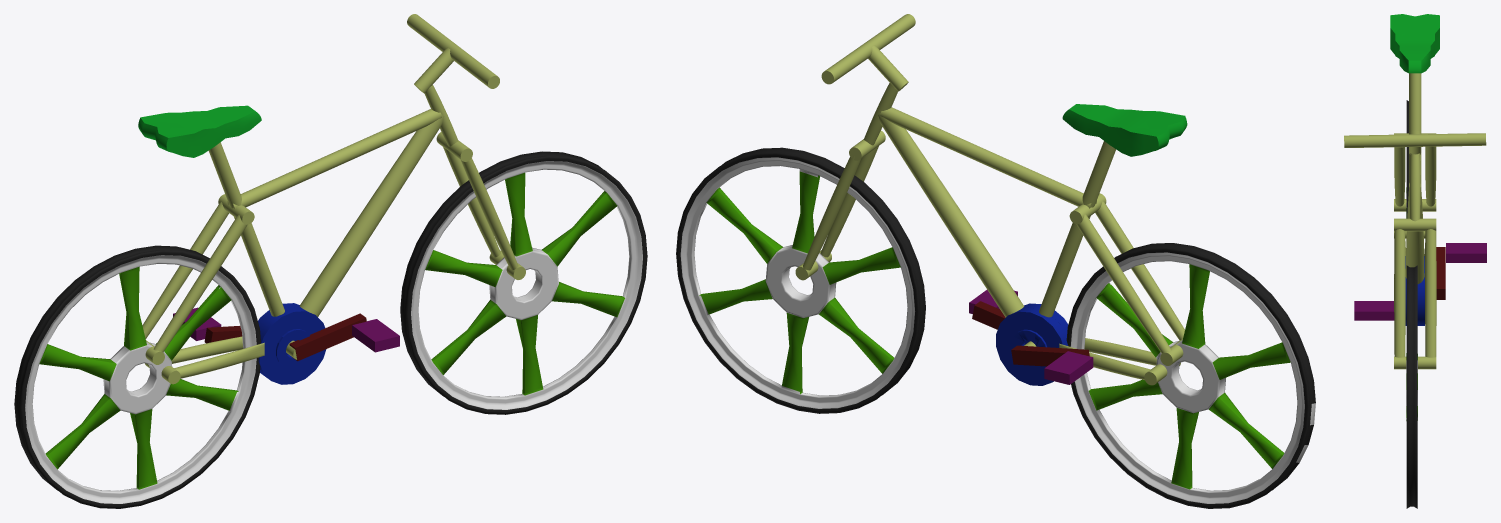
Rendered from velo.fbx.
The picture shows the model from 3 angles, left to right: view 1: azimuth 30°, elevation 25°; view 2: azimuth 150°, elevation 25°; view 3: azimuth 270°, elevation 25°; orthographic projection. The views are drawn at different scales.
Visible parts, largest first — view 1: Box003; view 2: Box003; view 3: Box003.
Boxes of the visible parts, bbox=[...] form: Box003: bbox=[14, 14, 647, 508]; Box003: bbox=[676, 14, 1315, 508]; Box003: bbox=[1344, 14, 1486, 508].
Size of the model in its own units: 535 by 311 by 120.
